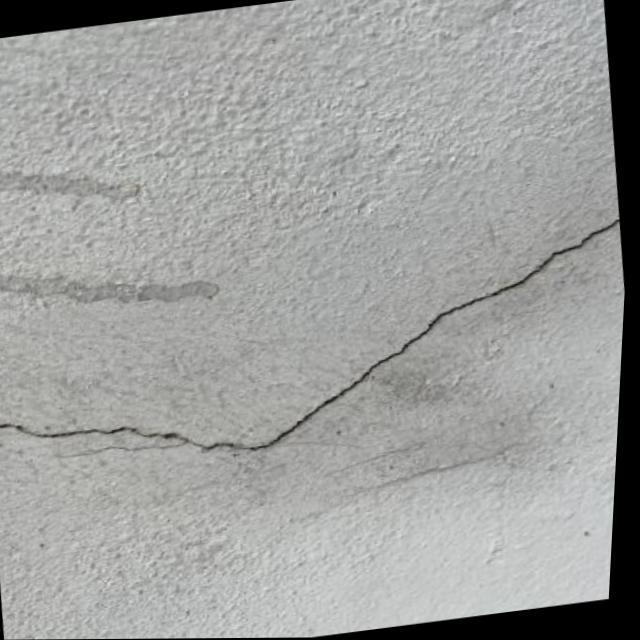Crack: (3, 219, 614, 460)
